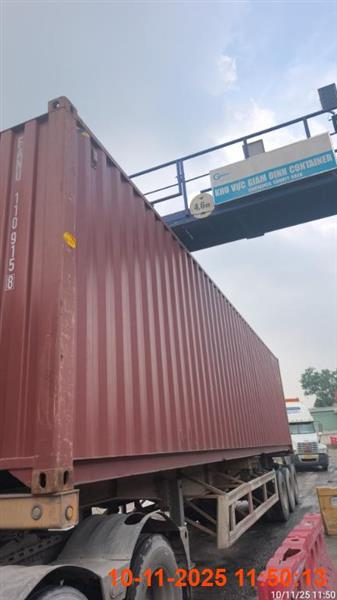hole: (0, 97, 300, 599), (284, 397, 328, 471)
